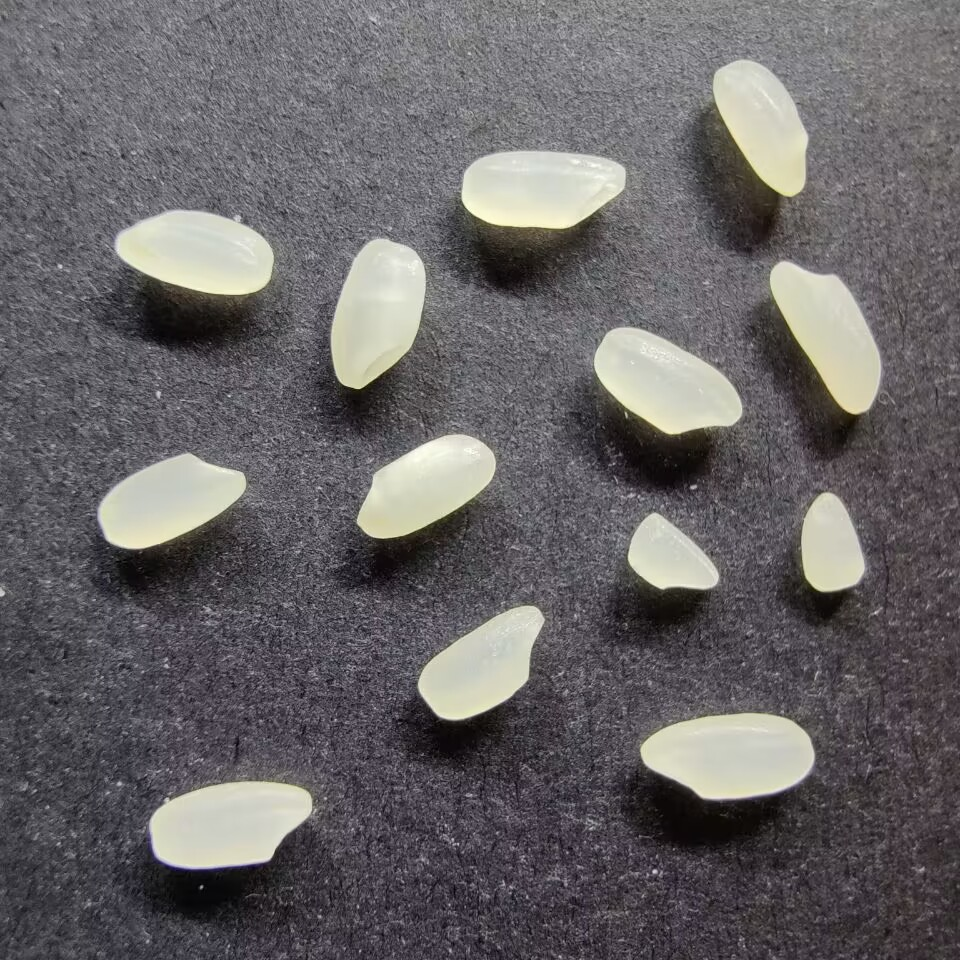broken: (625, 510, 723, 593), (797, 490, 868, 593)
rice: (768, 257, 884, 416), (590, 325, 744, 437), (637, 711, 815, 801), (415, 602, 546, 722), (353, 432, 496, 541), (94, 451, 247, 551), (327, 236, 426, 389), (147, 780, 314, 870), (112, 207, 273, 296), (711, 59, 811, 199), (459, 148, 626, 231)
